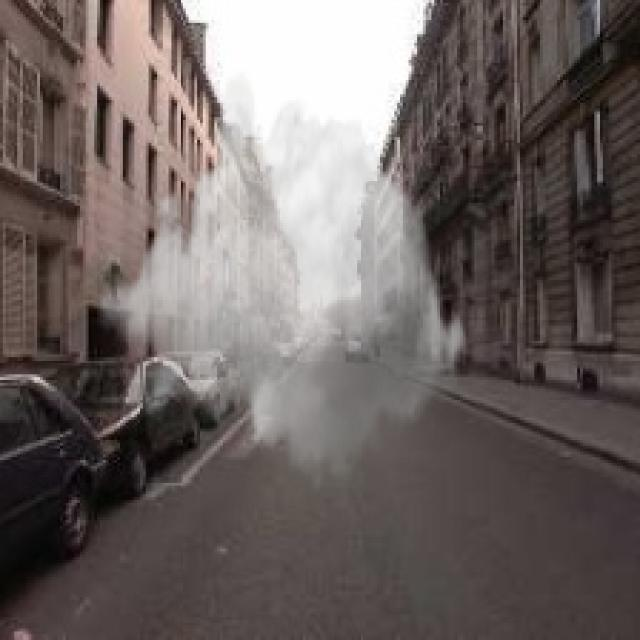smoke: (97, 72, 472, 497)
